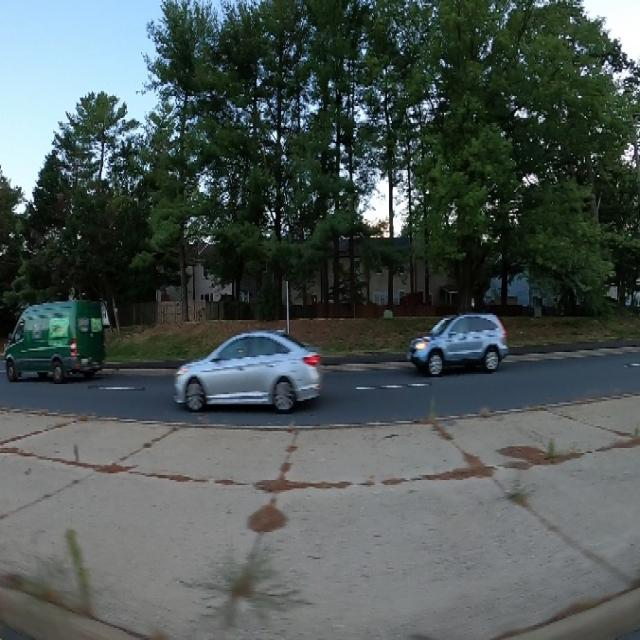car: (165, 310, 328, 426), (5, 280, 112, 388), (409, 296, 512, 389)
